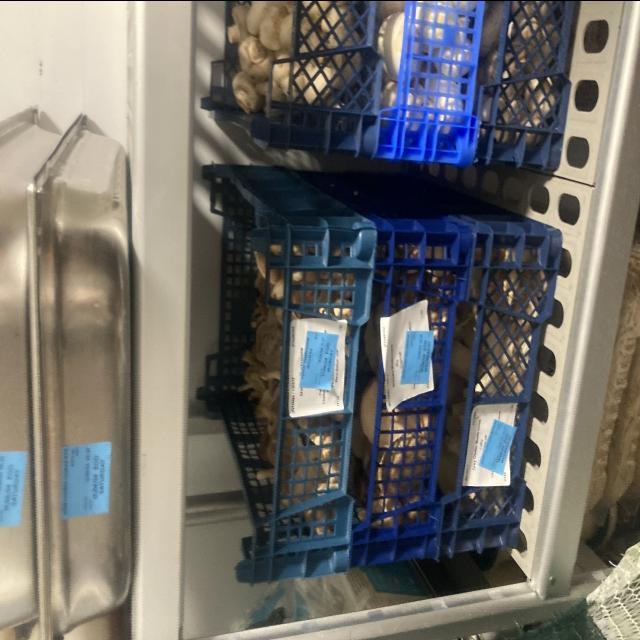product-labels: (62, 441, 111, 518), (300, 329, 339, 391), (479, 418, 517, 474), (400, 327, 434, 386)
